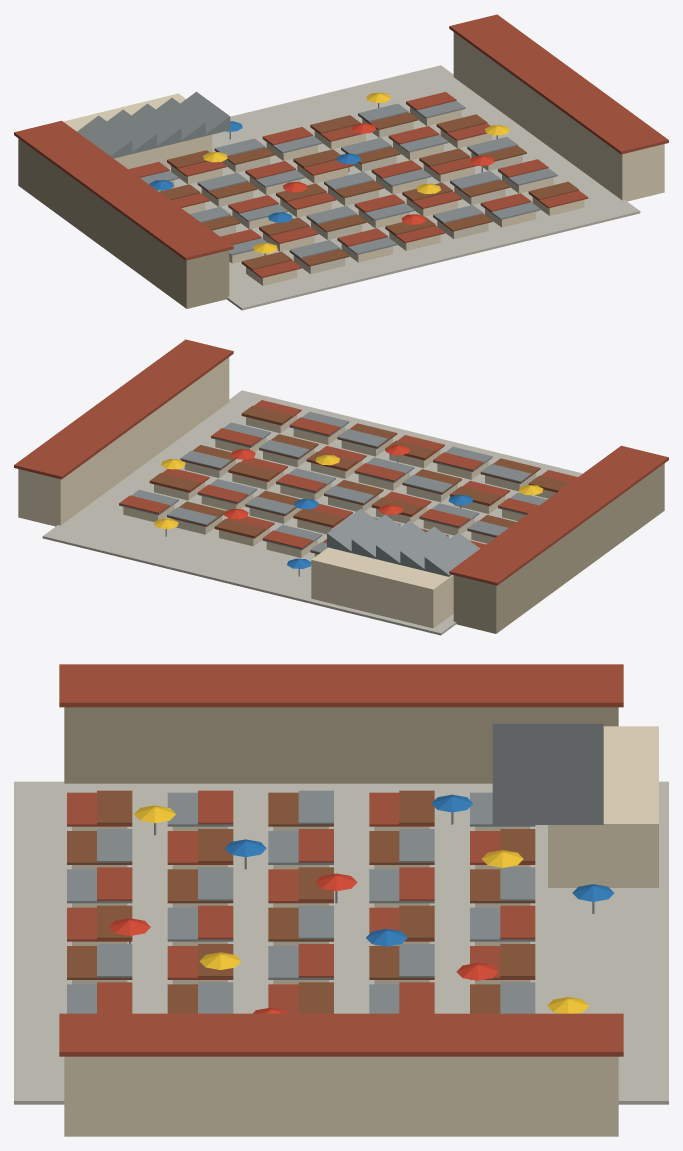
Rendered from makola.glb.
3 views of the same model, one above another, from view 1: azimuth 30°, elevation 25°; view 2: azimuth 150°, elevation 25°; view 3: azimuth 270°, elevation 25° (orthographic). The views are drawn at different scales.
Parts seen in each view (by area): view 1: makola_roof_red, makola_concrete, makola_cream, makola_zinc, makola_rust, makola_stone_dark, makola_stone, makola_umbrella_yellow, makola_umbrella_red, makola_umbrella_blue; view 2: makola_roof_red, makola_cream, makola_concrete, makola_zinc, makola_stone_dark, makola_rust, makola_stone, makola_umbrella_yellow, makola_umbrella_red, makola_umbrella_blue; view 3: makola_concrete, makola_roof_red, makola_cream, makola_stone_dark, makola_zinc, makola_rust, makola_umbrella_blue, makola_umbrella_yellow, makola_umbrella_red, makola_stone.
Boxes of the visible parts, left/top/right/bottom form: makola_roof_red: left=14, top=14, right=668, bottom=278; makola_concrete: left=168, top=65, right=640, bottom=310; makola_cream: left=63, top=32, right=664, bottom=285; makola_zinc: left=77, top=91, right=557, bottom=258; makola_rust: left=159, top=112, right=578, bottom=270; makola_stone_dark: left=18, top=138, right=229, bottom=308; makola_stone: left=201, top=119, right=522, bottom=274; makola_umbrella_yellow: left=203, top=92, right=509, bottom=253; makola_umbrella_red: left=283, top=123, right=494, bottom=224; makola_umbrella_blue: left=149, top=121, right=361, bottom=222; makola_roof_red: left=14, top=339, right=668, bottom=585; makola_cream: left=18, top=357, right=556, bottom=628; makola_concrete: left=42, top=390, right=582, bottom=635; makola_zinc: left=119, top=411, right=546, bottom=576; makola_stone_dark: left=453, top=463, right=664, bottom=633; makola_rust: left=149, top=405, right=569, bottom=554; makola_stone: left=171, top=437, right=536, bottom=556; makola_umbrella_yellow: left=154, top=454, right=543, bottom=528; makola_umbrella_red: left=224, top=445, right=409, bottom=519; makola_umbrella_blue: left=287, top=494, right=472, bottom=568; makola_concrete: left=14, top=781, right=668, bottom=1104; makola_roof_red: left=59, top=664, right=623, bottom=1056; makola_cream: left=64, top=726, right=658, bottom=1136; makola_stone_dark: left=64, top=707, right=618, bottom=783; makola_zinc: left=67, top=723, right=603, bottom=1013; makola_rust: left=67, top=790, right=535, bottom=1013; makola_umbrella_blue: left=224, top=794, right=613, bottom=946; makola_umbrella_yellow: left=134, top=805, right=588, bottom=1013; makola_umbrella_red: left=109, top=873, right=498, bottom=1013; makola_stone: left=72, top=826, right=530, bottom=984.
Bounding box in the file's own units: 182 × 19.8 × 130.
